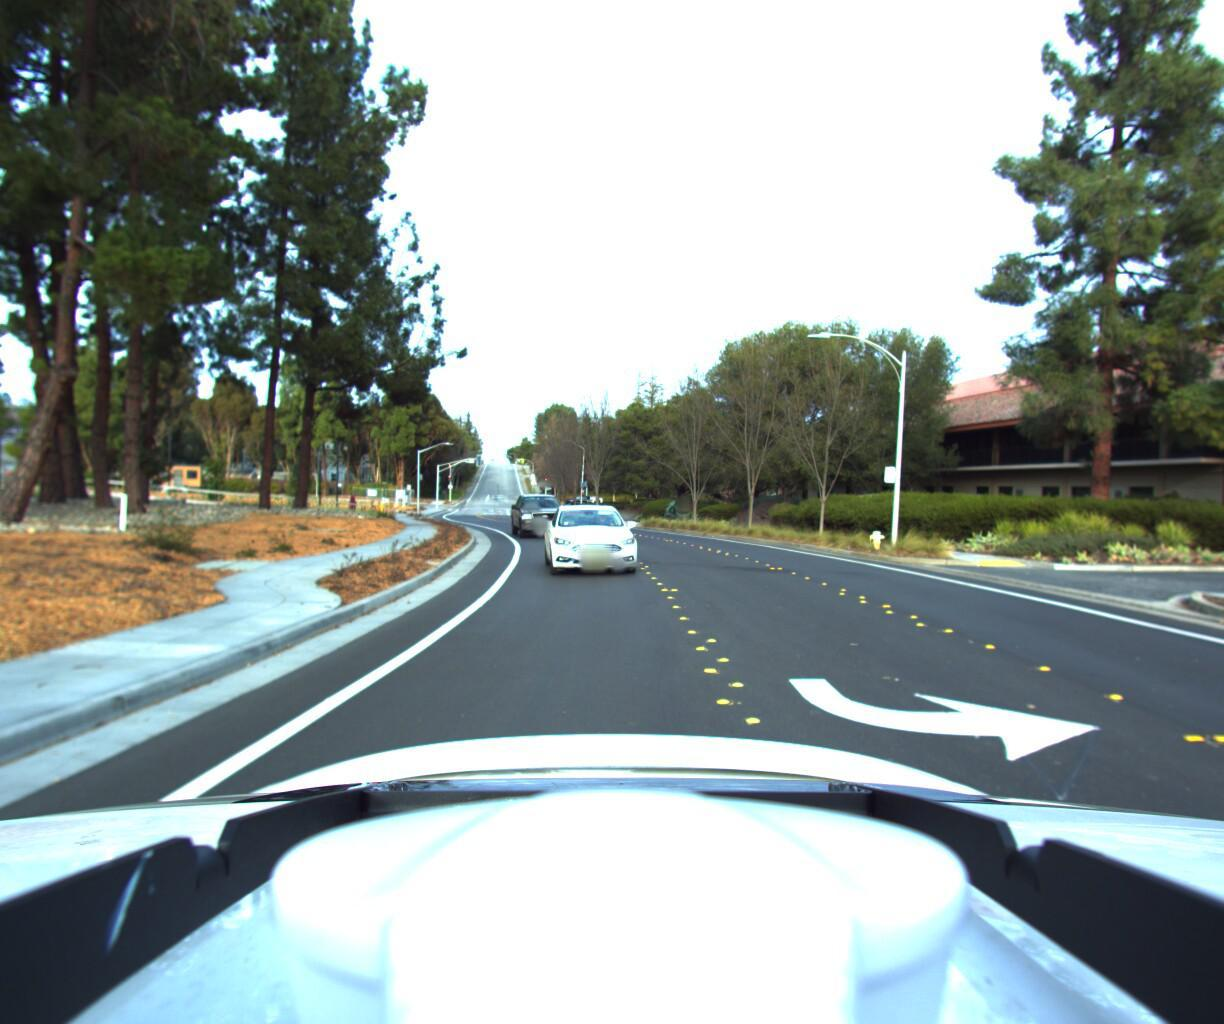car: (533, 498, 639, 581), (501, 488, 565, 540)
